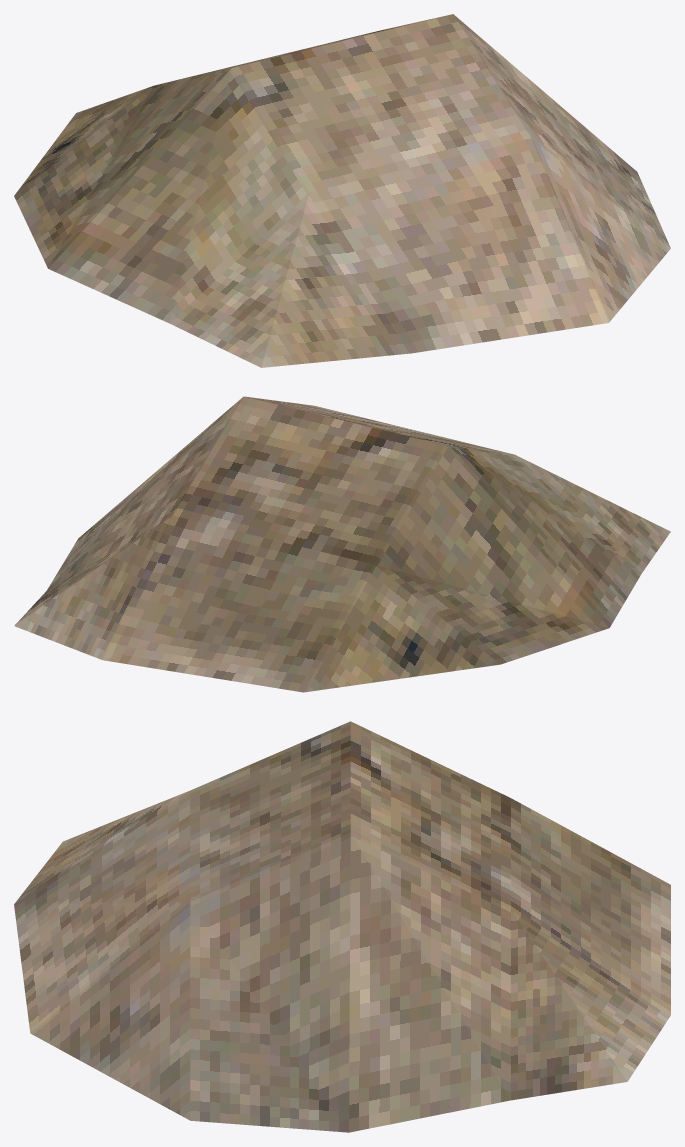
Rendered from DirtPile_04.glb.
3 views of the same model, one above another, from view 1: azimuth 30°, elevation 25°; view 2: azimuth 150°, elevation 25°; view 3: azimuth 270°, elevation 25° (orthographic). The views are drawn at different scales.
Parts seen in each view (by area): view 1: DirtPile_04; view 2: DirtPile_04; view 3: DirtPile_04.
Boxes of the visible parts, x1,y1,x2,y2 form: DirtPile_04: [14, 14, 670, 367]; DirtPile_04: [14, 396, 670, 692]; DirtPile_04: [14, 721, 670, 1132].
Bounding box in the file's own units: 713 × 245 × 670.
Materials: 1 (1 with a texture image).
